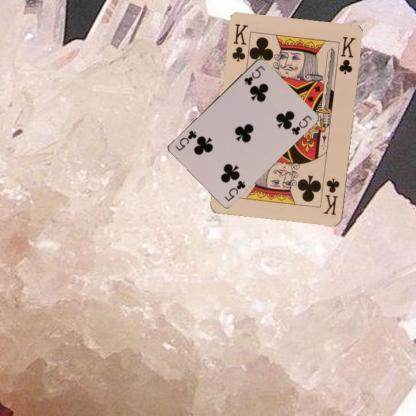5c: (222, 178, 247, 202), (242, 63, 266, 86)
Kc: (230, 21, 250, 63), (321, 176, 341, 216)
